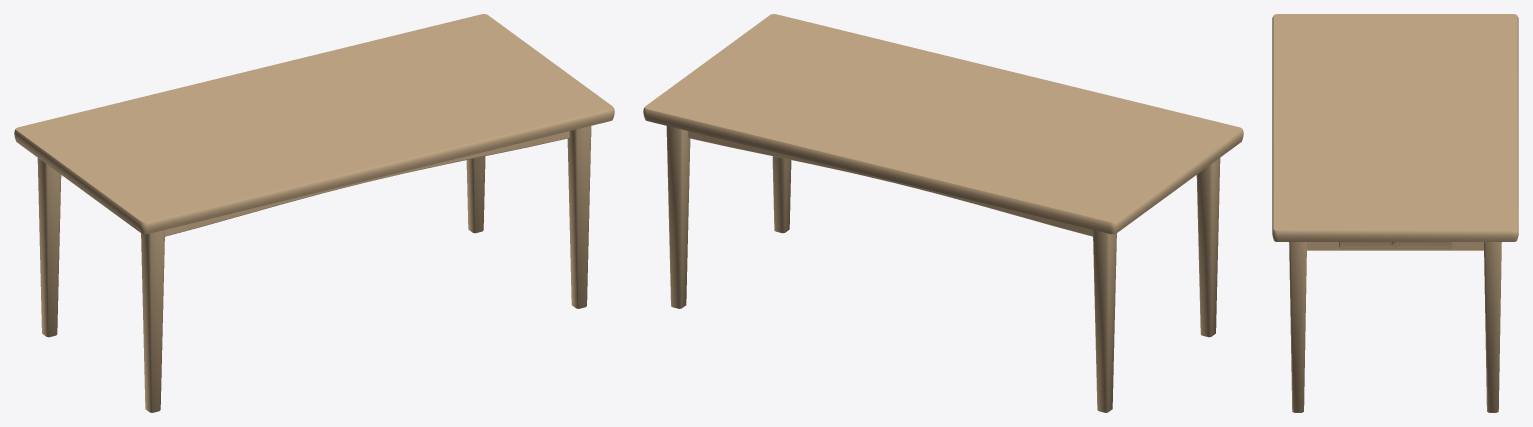
Rendered from tableDining4.glb.
The picture shows the model from 3 angles, left to right: view 1: azimuth 30°, elevation 25°; view 2: azimuth 150°, elevation 25°; view 3: azimuth 270°, elevation 25°; orthographic projection. The views are drawn at different scales.
Visible parts, largest first — view 1: tableDining4; view 2: tableDining4; view 3: tableDining4.
Part boxes in pixels (bbox=[...]): tableDining4: bbox=[14, 14, 614, 412]; tableDining4: bbox=[643, 14, 1243, 412]; tableDining4: bbox=[1272, 14, 1518, 412].
Size of the model in its own units: 1.84 by 0.75 by 0.88.
